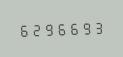nine: (41, 20, 52, 37), (77, 19, 88, 36)
six: (17, 21, 28, 38), (65, 19, 76, 36), (53, 20, 64, 36)
three: (89, 19, 100, 35)
two: (29, 21, 40, 37)
